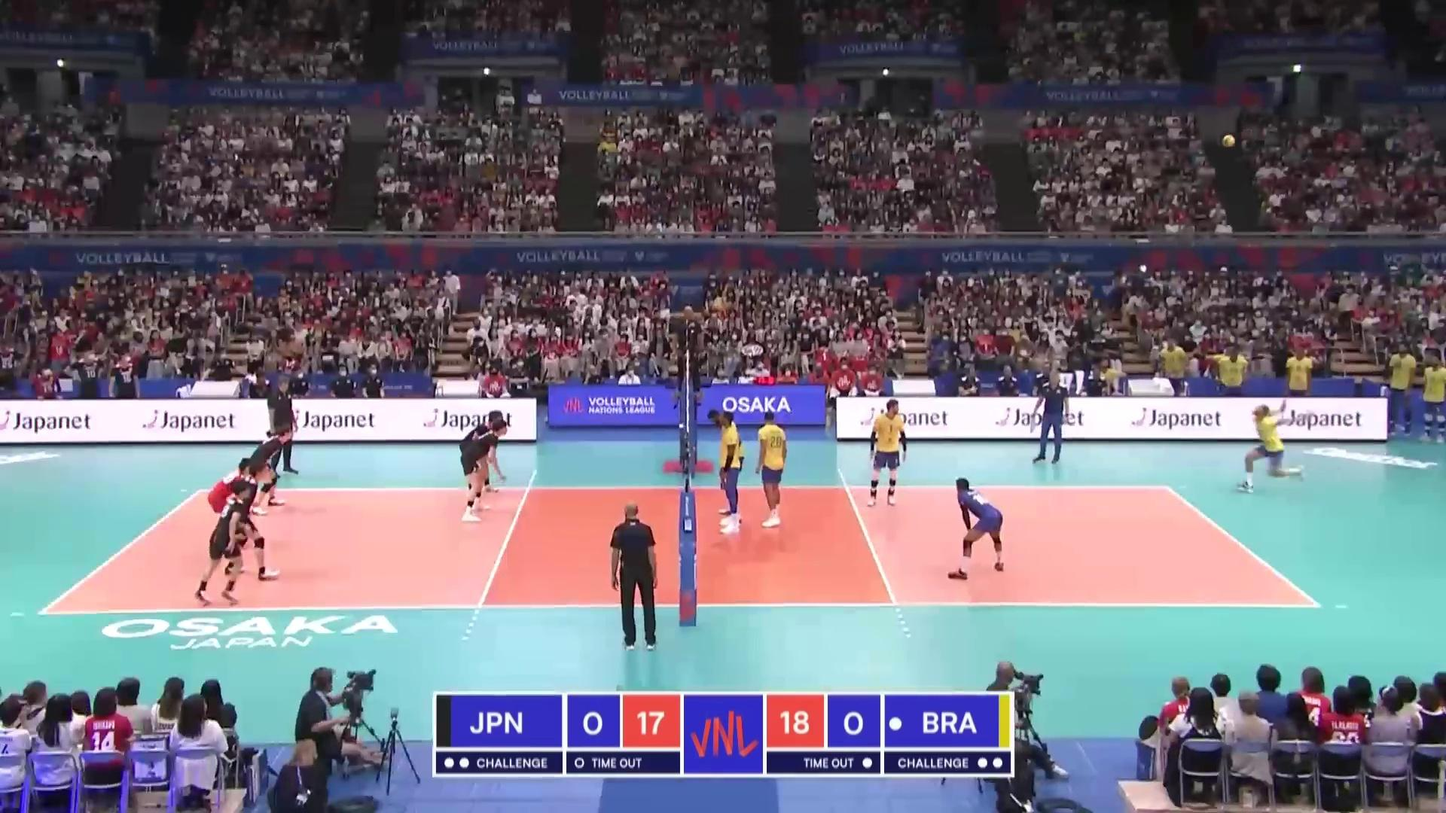player: (221, 463, 281, 580), (196, 482, 252, 607), (1237, 401, 1308, 492), (948, 476, 1005, 580), (458, 412, 506, 507), (460, 422, 507, 519), (707, 405, 745, 524), (207, 457, 261, 540), (753, 412, 789, 527), (869, 400, 907, 506), (250, 423, 291, 514), (715, 410, 743, 537)
refree: (608, 504, 660, 647), (676, 307, 702, 404)
